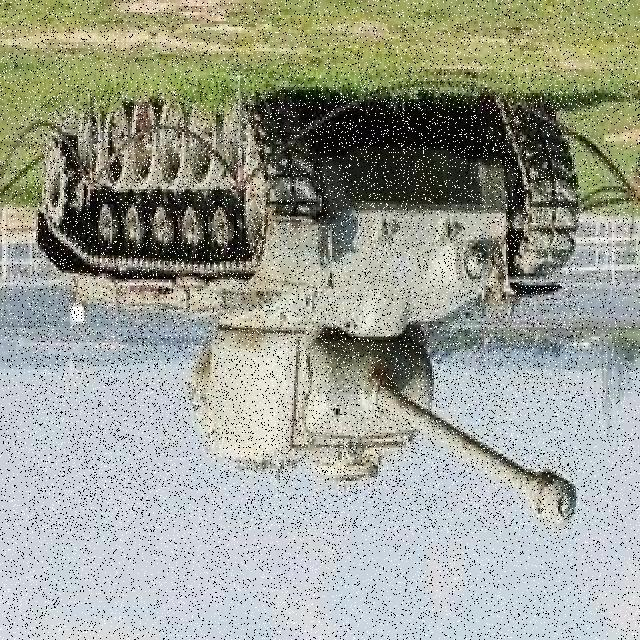MIL_MBT: (33, 90, 581, 532)
